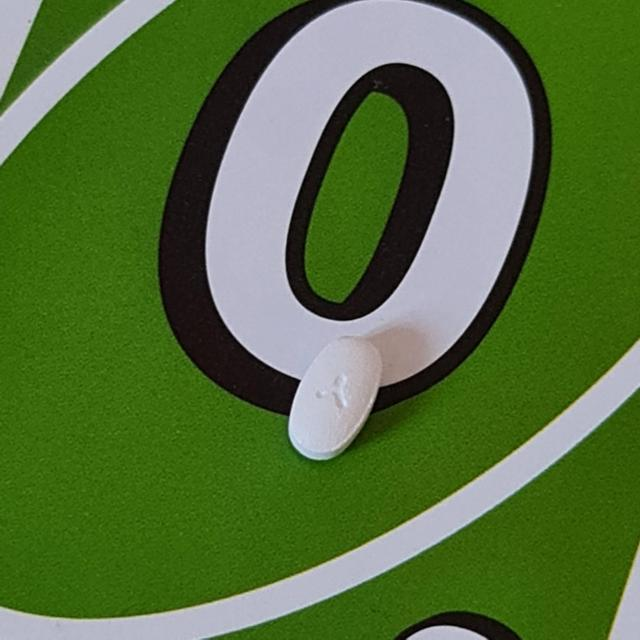pill: (290, 336, 380, 459)
